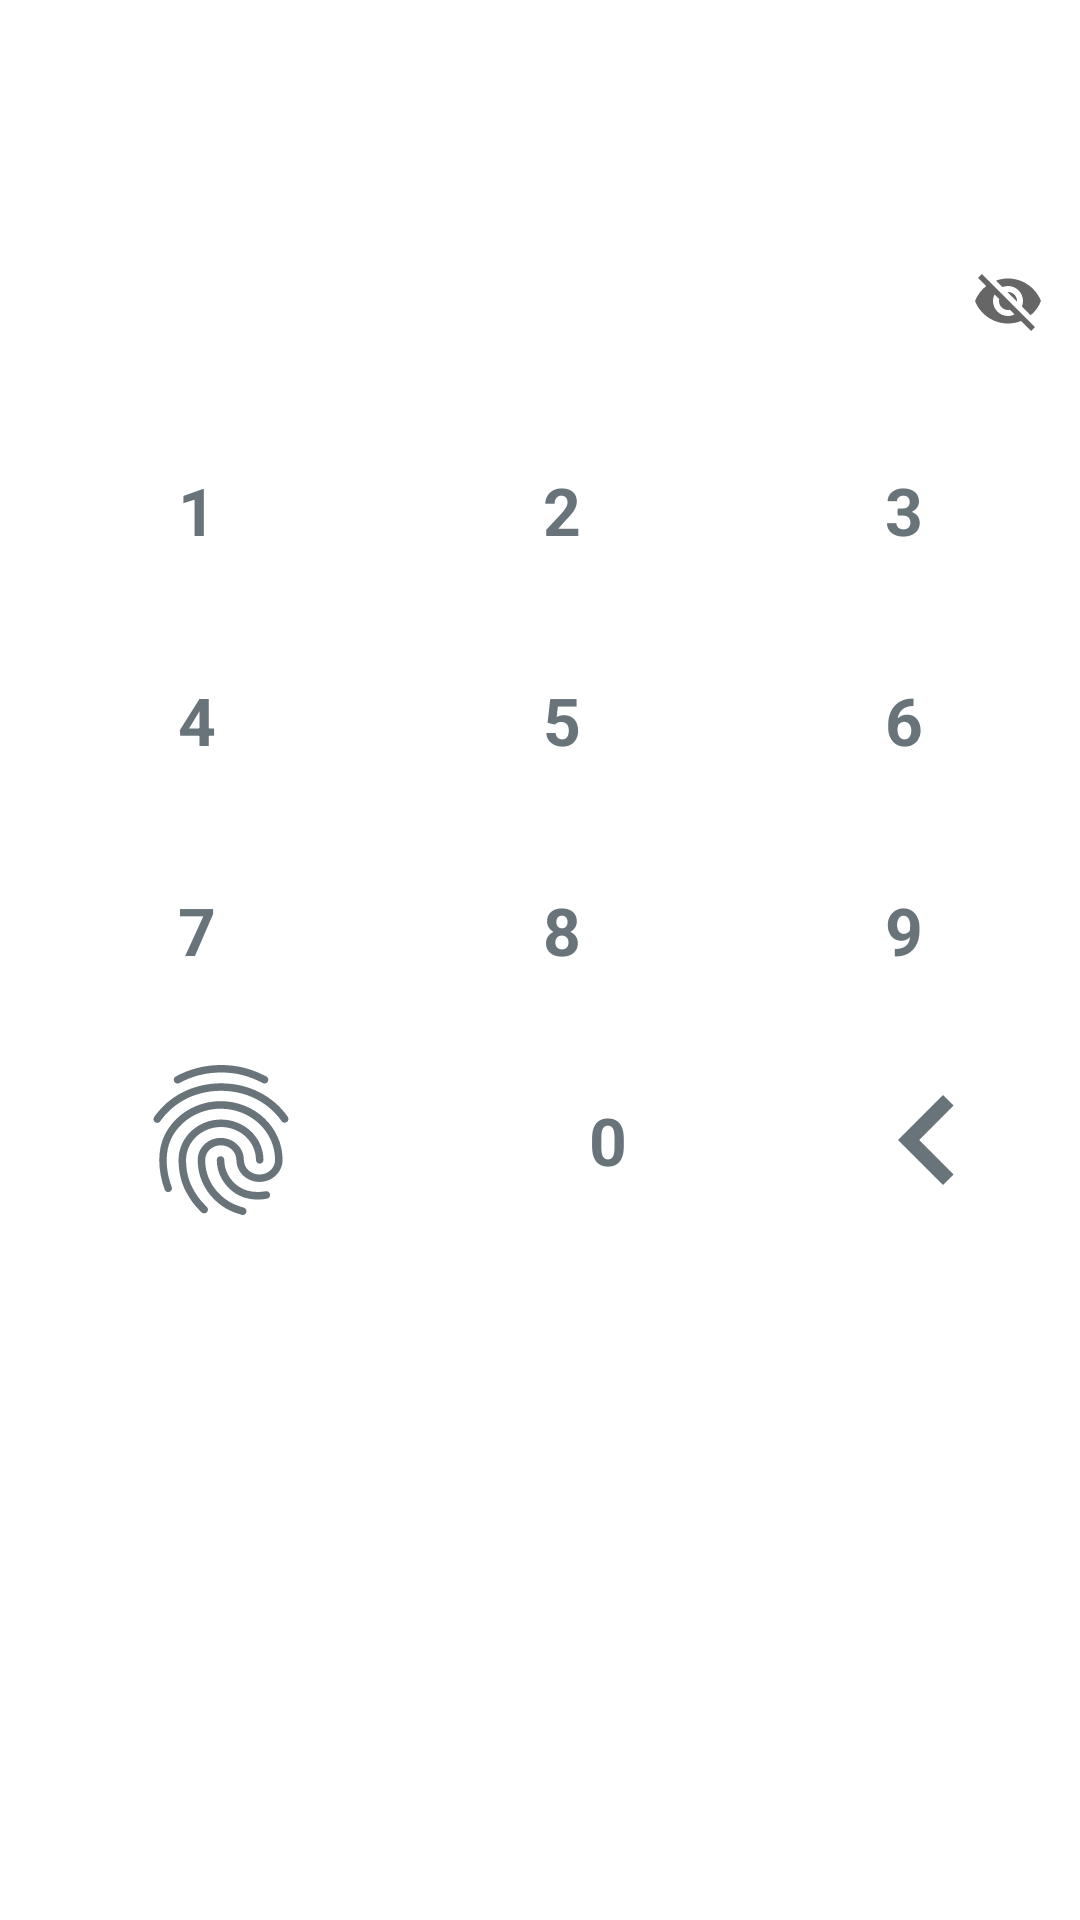

Icons on this 1080*1920 Android screen, each with the point to tap as (x,y):
fingerprint: (221,1140)
previous: (926,1140)
